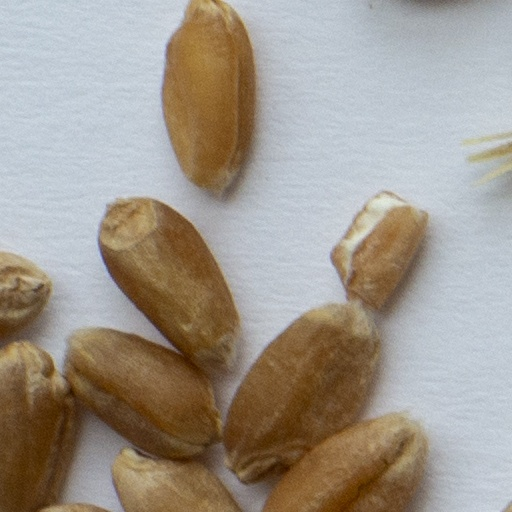Wheat-grain-damaged-poly: (330, 189, 434, 319)
